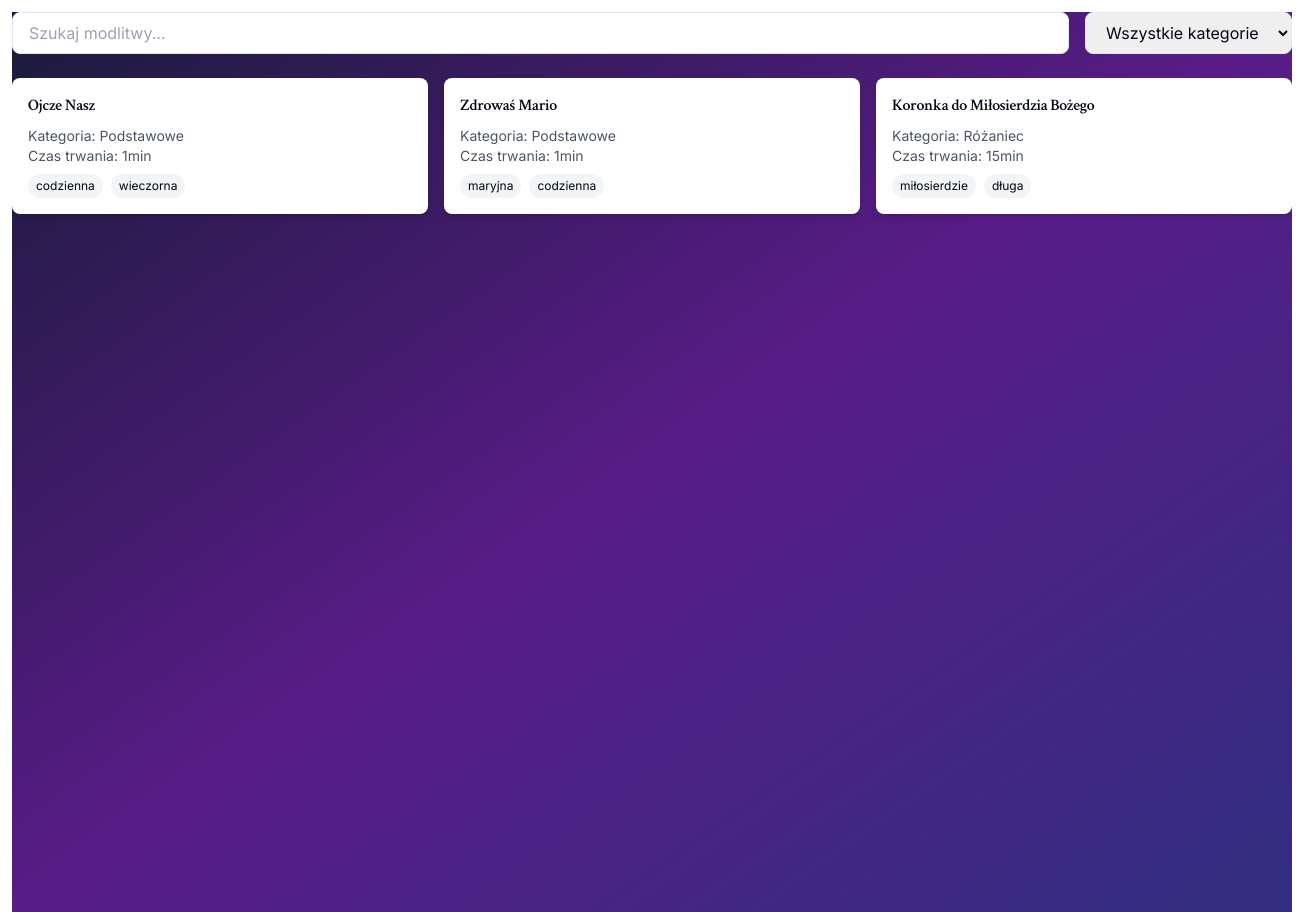
Test: PrayerMap › filters prayers by search query
Type "mario" into the field with placeholder "Szukaj modlitwy...".
click(540, 33); type("mario")  # box left=12, top=12, right=1069, bottom=54
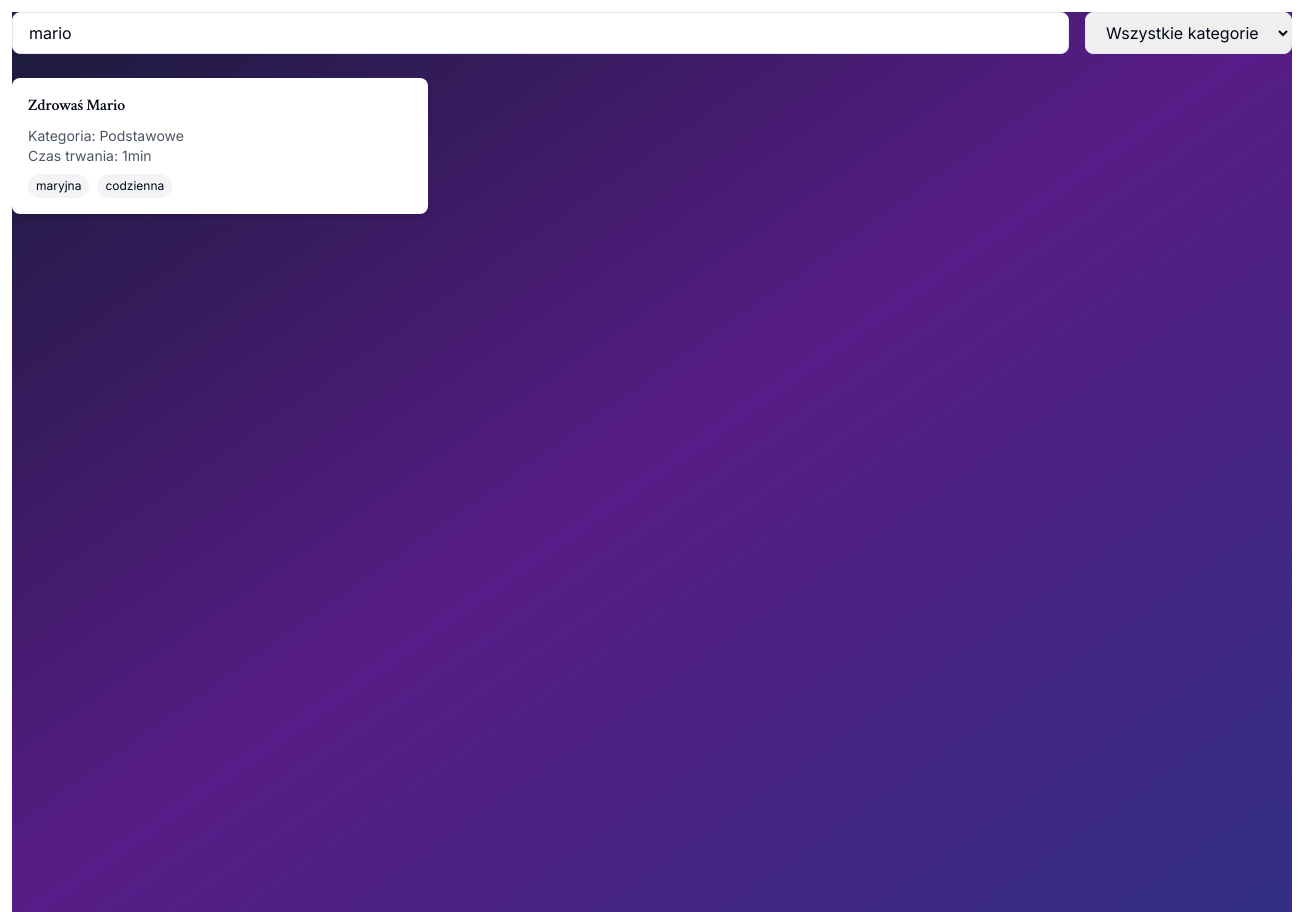
Expected: the heading "Zdrowaś Mario" is shown, left=28, top=95, right=125, bottom=116
Now the button "Ojcze Nasz" is gone
Now the button "Koronka do Miłosierdzia Bożego" is gone
